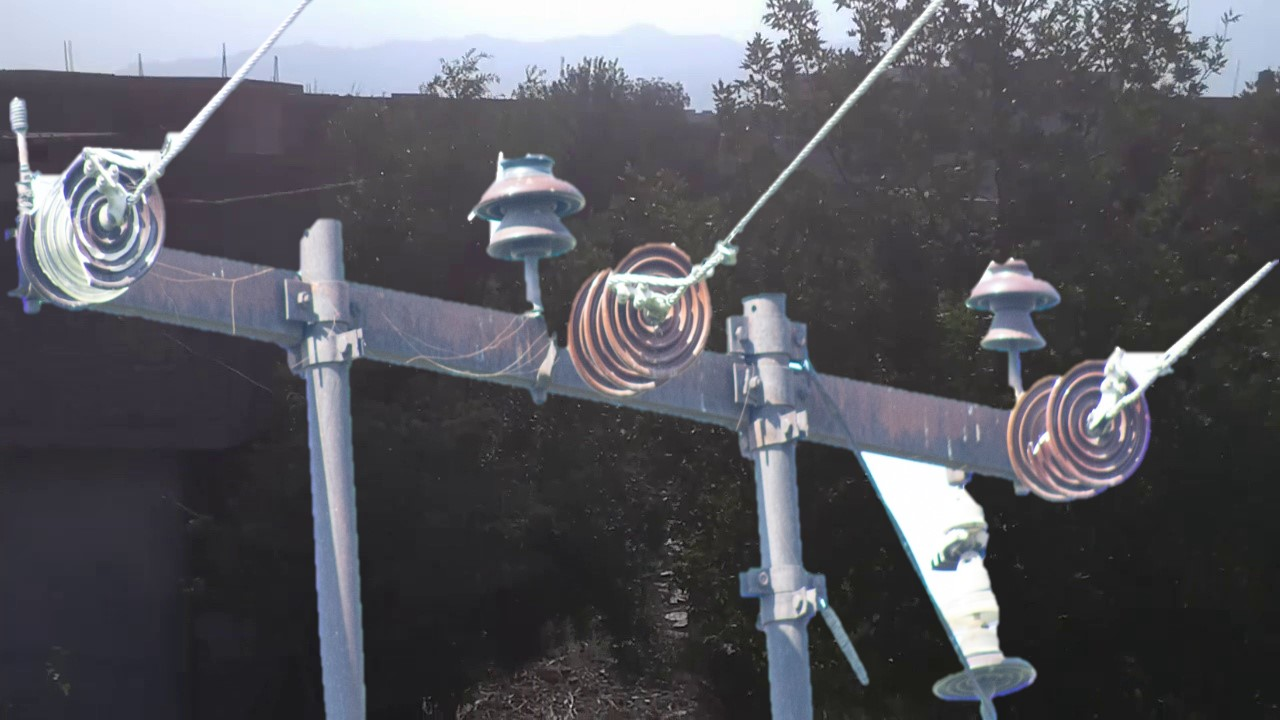defect_disc: (55, 143, 172, 295)
insulator_disc: (602, 234, 717, 384), (1044, 351, 1154, 489)
